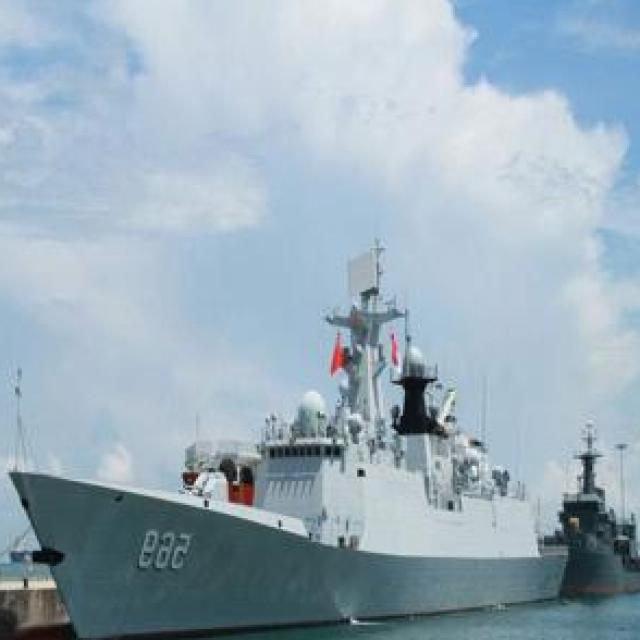navalvessels: (30, 231, 567, 634), (531, 424, 640, 601)
